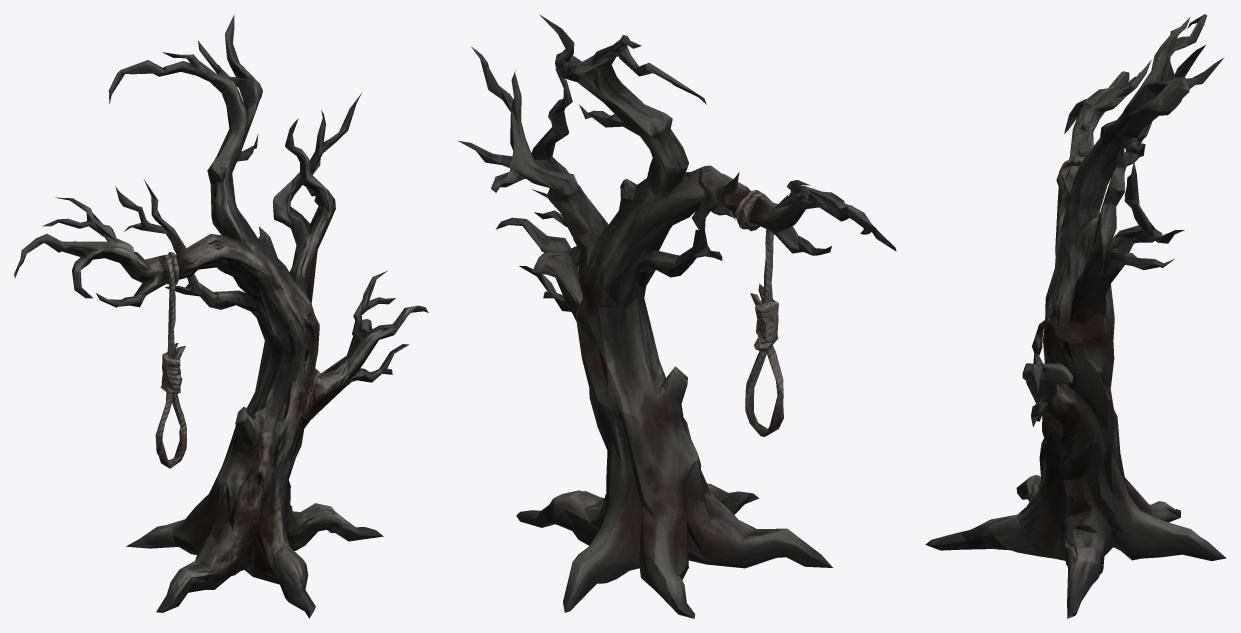
File: prop-dead-tree.glb
3 views of the same model, side by side, from view 1: azimuth 30°, elevation 25°; view 2: azimuth 150°, elevation 25°; view 3: azimuth 270°, elevation 25° (orthographic). The views are drawn at different scales.
Size of the model in its own units: 1.51 by 1.9 by 0.9783.
Materials: 1 (1 with a texture image).
